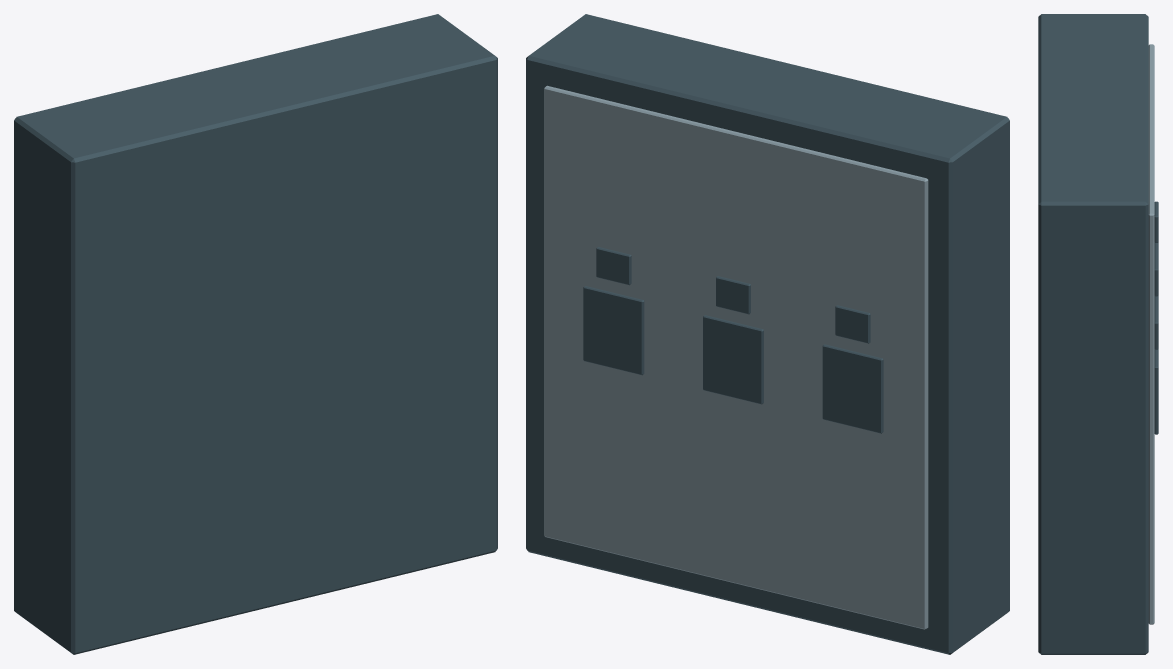
Rendered from tableau_fer.glb.
3 renders of one model, left to right at view 1: azimuth 30°, elevation 25°; view 2: azimuth 150°, elevation 25°; view 3: azimuth 270°, elevation 25°, orthographic. The views are drawn at different scales.
Parts seen in each view (by area): view 1: tableau_fer; view 2: tableau_fer; view 3: tableau_fer.
Part boxes in pixels (x1=…): tableau_fer: x1=14, y1=14, x2=497, y2=654; tableau_fer: x1=526, y1=14, x2=1009, y2=654; tableau_fer: x1=1038, y1=14, x2=1158, y2=654.
Bounding box in the file's own units: 1.35 × 1.5 × 0.36.
1 material, 1 textured.
